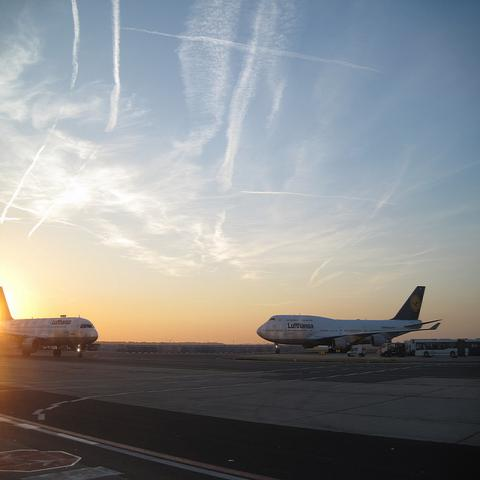bus: (414, 339, 467, 357)
truck: (347, 346, 366, 358)
